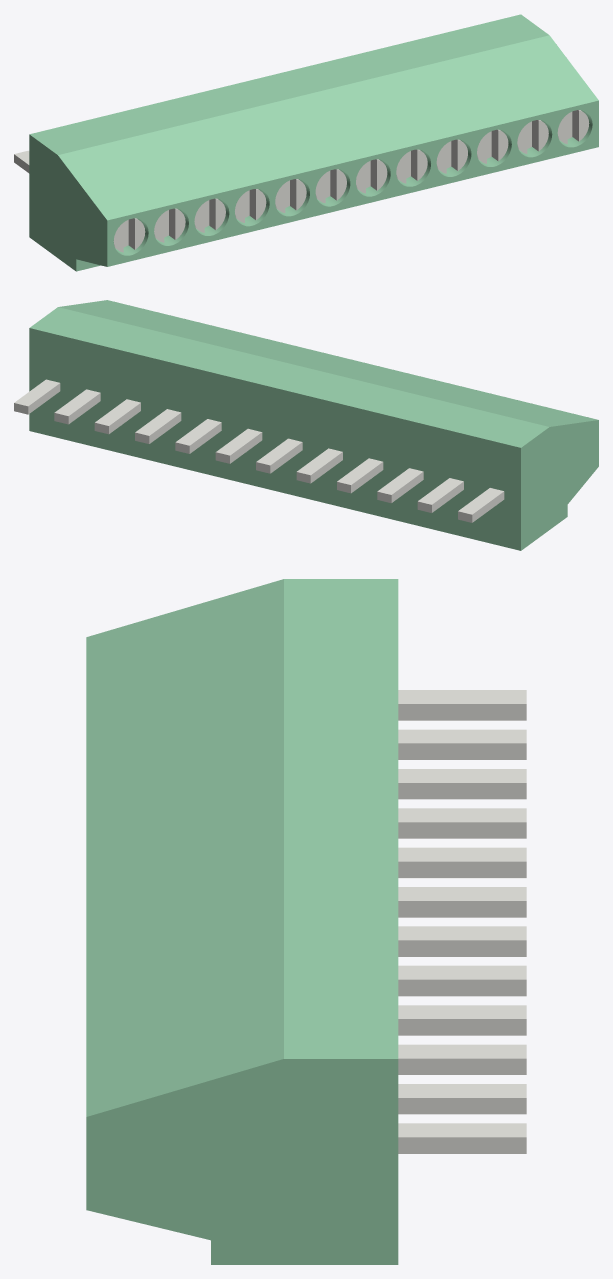
The model's file is TerminalBlock_Phoenix_MPT-0,5-12-2.54_1x12_P2.54mm_Horizontal.glb.
3 views of the same model, one above another, from view 1: azimuth 30°, elevation 25°; view 2: azimuth 150°, elevation 25°; view 3: azimuth 270°, elevation 25° (orthographic). The views are drawn at different scales.
Parts seen in each view (by area): view 1: Shape_IndexedFaceSet.104, Shape_IndexedFaceSet.004, Shape_IndexedFaceSet.103, Shape_IndexedFaceSet.002; view 2: Shape_IndexedFaceSet, Shape_IndexedFaceSet.004, Shape_IndexedFaceSet.104, Shape_IndexedFaceSet.002, Shape_IndexedFaceSet.027, Shape_IndexedFaceSet.039, Shape_IndexedFaceSet.007, Shape_IndexedFaceSet.011, Shape_IndexedFaceSet.023, Shape_IndexedFaceSet.035, Shape_IndexedFaceSet.047, Shape_IndexedFaceSet.015 (+4 smaller); view 3: Shape_IndexedFaceSet.104, Shape_IndexedFaceSet.004, Shape_IndexedFaceSet.003, Shape_IndexedFaceSet.022, Shape_IndexedFaceSet.006, Shape_IndexedFaceSet.010, Shape_IndexedFaceSet.014, Shape_IndexedFaceSet.018, Shape_IndexedFaceSet.026, Shape_IndexedFaceSet.030, Shape_IndexedFaceSet.034, Shape_IndexedFaceSet.038 (+15 smaller).
Part boxes in pixels (x1,y1,x2,y2): Shape_IndexedFaceSet.104: (58,35,598,220); Shape_IndexedFaceSet.004: (30,14,548,154); Shape_IndexedFaceSet.103: (107,100,598,266); Shape_IndexedFaceSet.002: (29,134,107,271); Shape_IndexedFaceSet: (29,328,520,550); Shape_IndexedFaceSet.004: (30,307,548,447); Shape_IndexedFaceSet.104: (58,300,597,426); Shape_IndexedFaceSet.002: (521,420,598,550); Shape_IndexedFaceSet.027: (216,428,261,455); Shape_IndexedFaceSet.039: (14,379,59,406); Shape_IndexedFaceSet.007: (337,458,382,484); Shape_IndexedFaceSet.011: (256,438,301,465); Shape_IndexedFaceSet.023: (176,419,221,445); Shape_IndexedFaceSet.035: (418,478,463,504); Shape_IndexedFaceSet.047: (54,389,100,415); Shape_IndexedFaceSet.015: (297,448,342,475); Shape_IndexedFaceSet.104: (86,579,283,1116); Shape_IndexedFaceSet.004: (284,579,398,1058); Shape_IndexedFaceSet.003: (86,1059,398,1264); Shape_IndexedFaceSet.022: (398,979,526,996); Shape_IndexedFaceSet.006: (398,822,526,838); Shape_IndexedFaceSet.010: (398,901,526,917); Shape_IndexedFaceSet.014: (398,861,526,877); Shape_IndexedFaceSet.018: (398,1019,526,1035); Shape_IndexedFaceSet.026: (398,940,526,956); Shape_IndexedFaceSet.030: (398,783,526,799); Shape_IndexedFaceSet.034: (398,743,526,759); Shape_IndexedFaceSet.038: (398,1137,526,1153).
Bounding box in the file's own units: 12.18 × 2.44 × 4.72.
